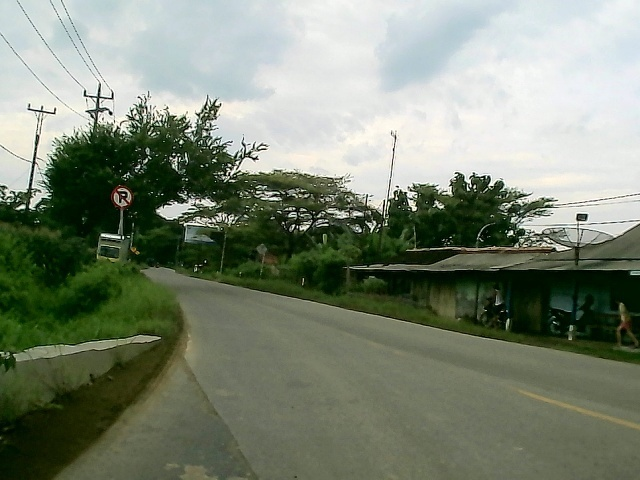Dilarang parkir: (108, 183, 134, 209)
